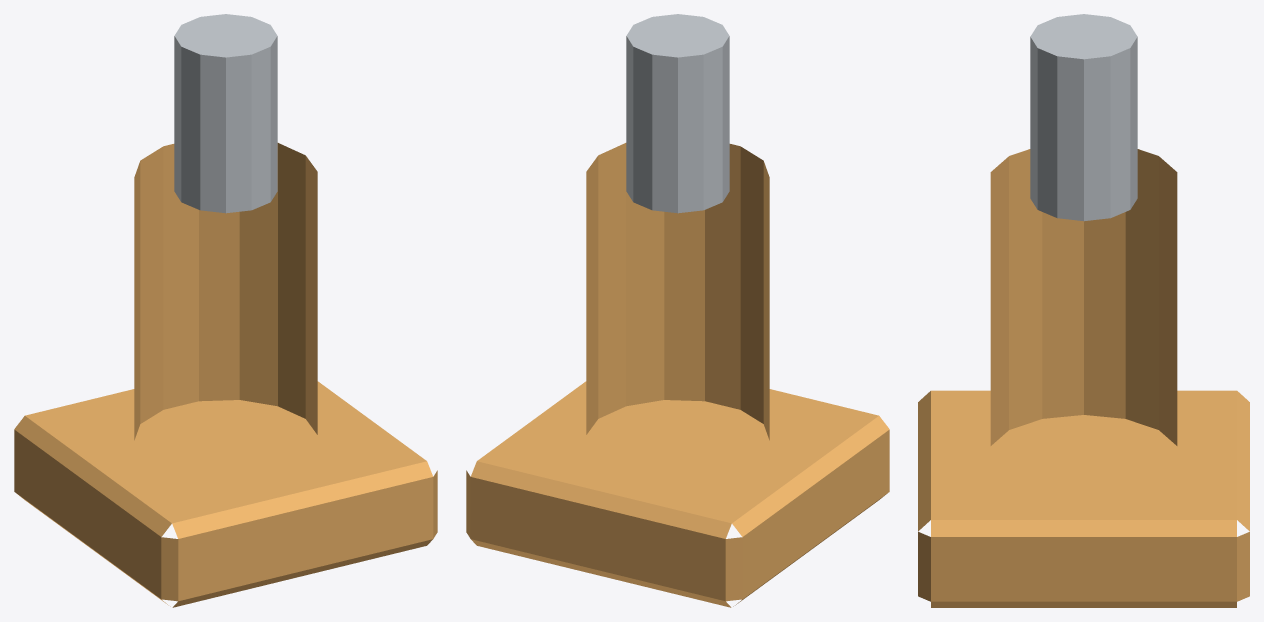
The model's file is hydraulic_jack.glb.
3 views of the same model, side by side, from view 1: azimuth 30°, elevation 25°; view 2: azimuth 150°, elevation 25°; view 3: azimuth 270°, elevation 25° (orthographic). The views are drawn at different scales.
Visible parts, largest first — view 1: HousingAccent, MetalBody; view 2: HousingAccent, MetalBody; view 3: HousingAccent, MetalBody.
Part boxes in pixels (bbox=[...]): HousingAccent: bbox=[14, 143, 437, 607]; MetalBody: bbox=[174, 14, 277, 213]; HousingAccent: bbox=[466, 143, 889, 607]; MetalBody: bbox=[626, 14, 729, 213]; HousingAccent: bbox=[918, 149, 1249, 607]; MetalBody: bbox=[1030, 14, 1137, 221].
Size of the model in its own units: 0.26 by 0.438 by 0.26.
